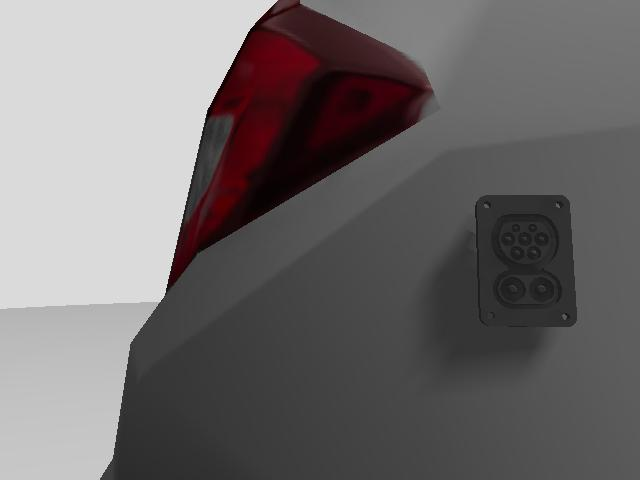EV-socket: (468, 189, 585, 329)
